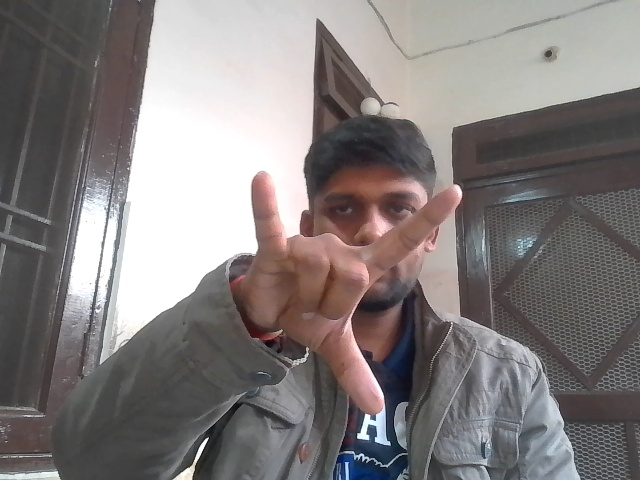ILoveYou: (228, 156, 470, 420)
